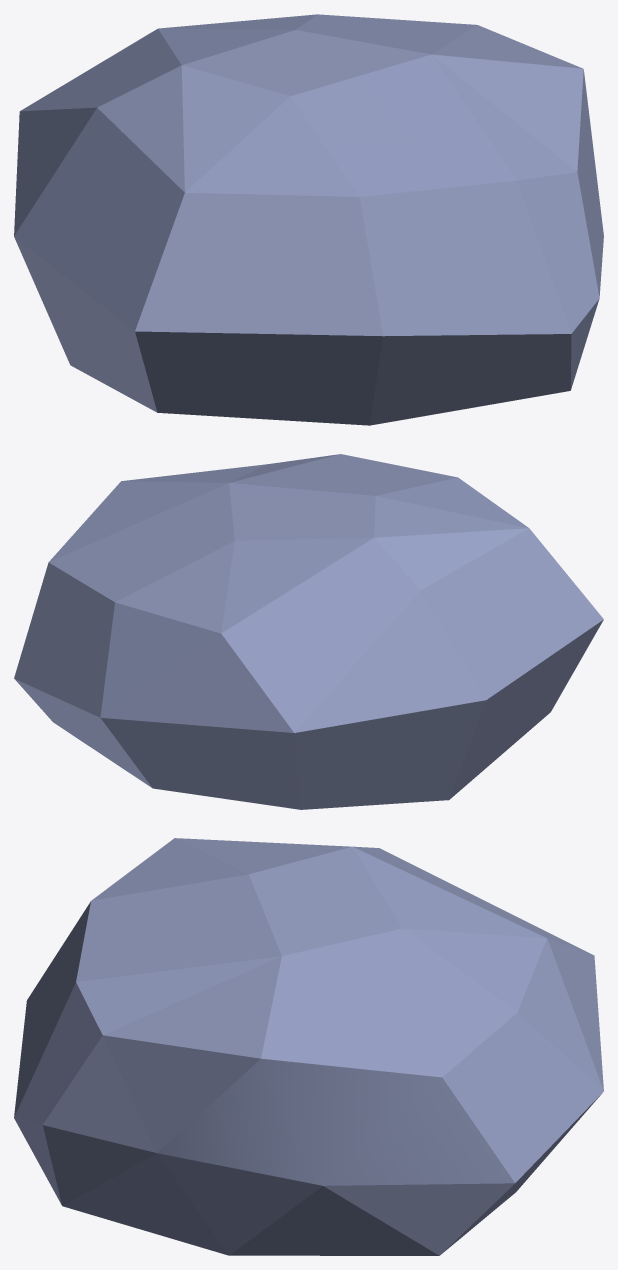
File: Stone_9.fbx
The picture shows the model from 3 angles, top to bottom: view 1: azimuth 30°, elevation 25°; view 2: azimuth 150°, elevation 25°; view 3: azimuth 270°, elevation 25°; orthographic projection. The views are drawn at different scales.
Visible parts, largest first — view 1: Stone_9; view 2: Stone_9; view 3: Stone_9.
Part boxes in pixels (x1=…): Stone_9: x1=14, y1=14, x2=603, y2=425; Stone_9: x1=14, y1=454, x2=603, y2=809; Stone_9: x1=14, y1=838, x2=603, y2=1255.
Size of the model in its own units: 1.43 by 0.7778 by 1.46.
